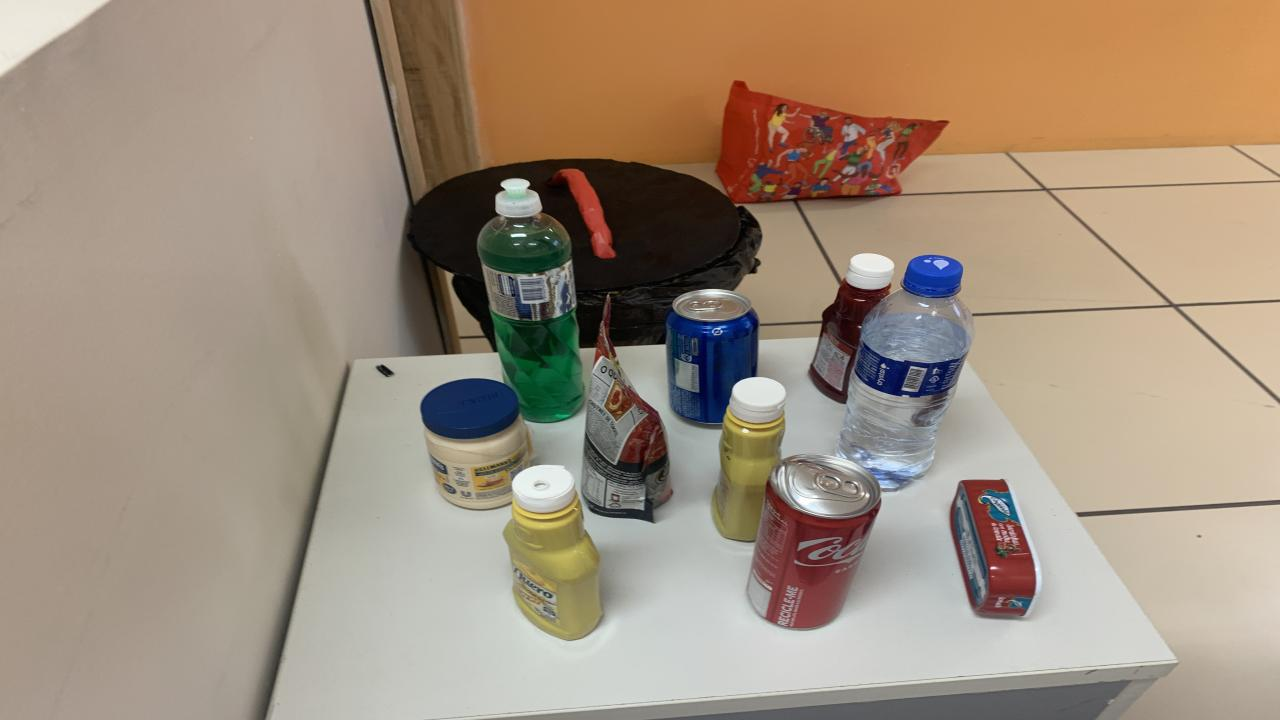Coke-Drinks: (748, 454, 880, 628)
Detergent-Cleanup_Items: (478, 212, 585, 422), (498, 178, 540, 212)
Ketchup-Pantry_Items: (810, 253, 895, 403)
Mayonnaise-Pantry_Items: (420, 379, 530, 510)
Mustard-Pantry_Items: (502, 465, 602, 639), (712, 377, 785, 542)
Tomato_Sauce-Pantry_Items: (580, 300, 672, 521)
Tonic-Drinks: (665, 289, 758, 424)
Tuna_Can-Pantry_Items: (950, 480, 1040, 617)
Water_Bottle-Drinks: (838, 255, 972, 489)
